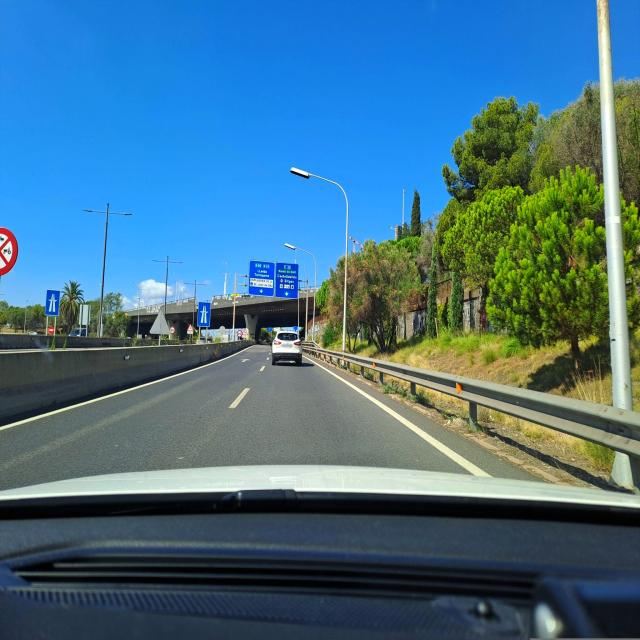car: (272, 330, 302, 365), (68, 327, 88, 338)
